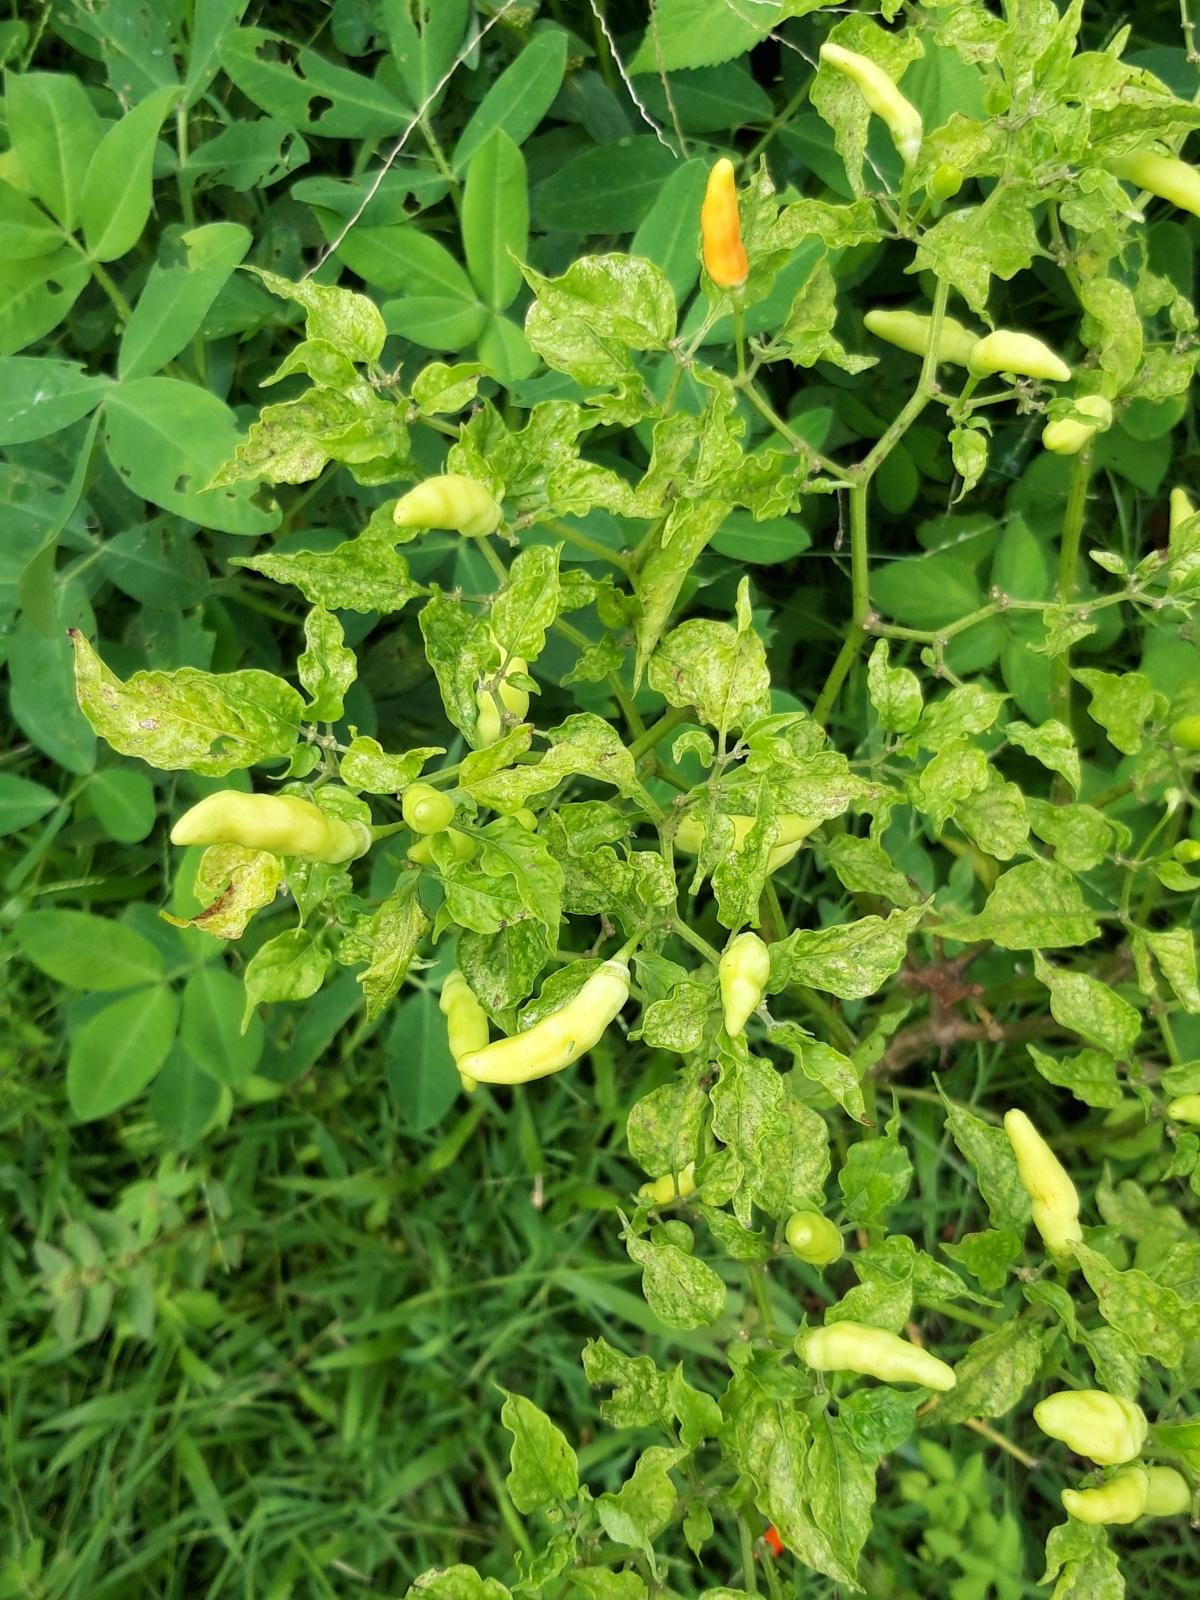cabai_normal: (458, 969, 632, 1086), (171, 787, 355, 863), (821, 43, 923, 163), (1003, 1107, 1083, 1259), (798, 1319, 958, 1392), (1031, 1388, 1150, 1466), (393, 469, 504, 538), (862, 309, 979, 370), (701, 156, 750, 290), (720, 931, 771, 1038), (967, 331, 1073, 383), (1061, 1466, 1150, 1524), (785, 1209, 843, 1267)
